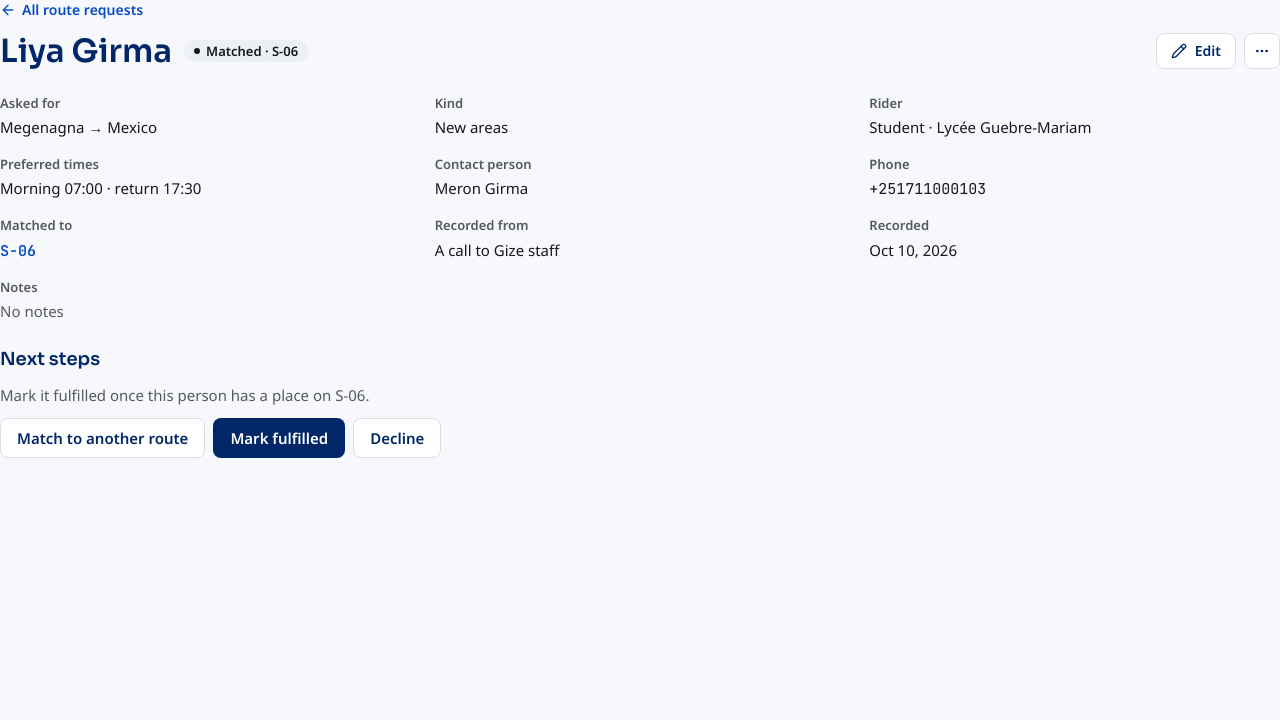
Test case: RouteRequestDetail › asks for a route, and explains a route that isn't for this rider
The width and height of the screenshot is (1280, 720).
Check: the heading "Liya Girma" is shown, box [0, 32, 172, 70]
Click the button "Match to another route".
click(103, 438)  # box [0, 418, 205, 458]
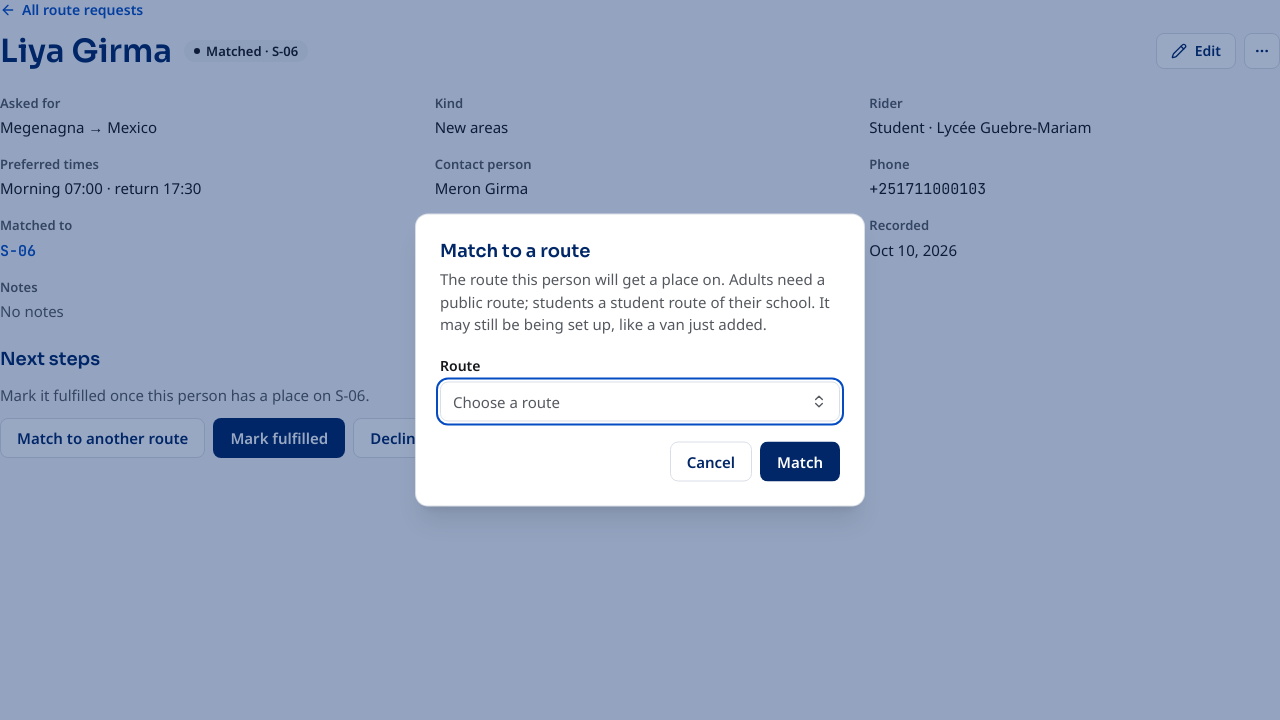
Click the button "Match".
click(800, 462)  # box [760, 442, 840, 482]
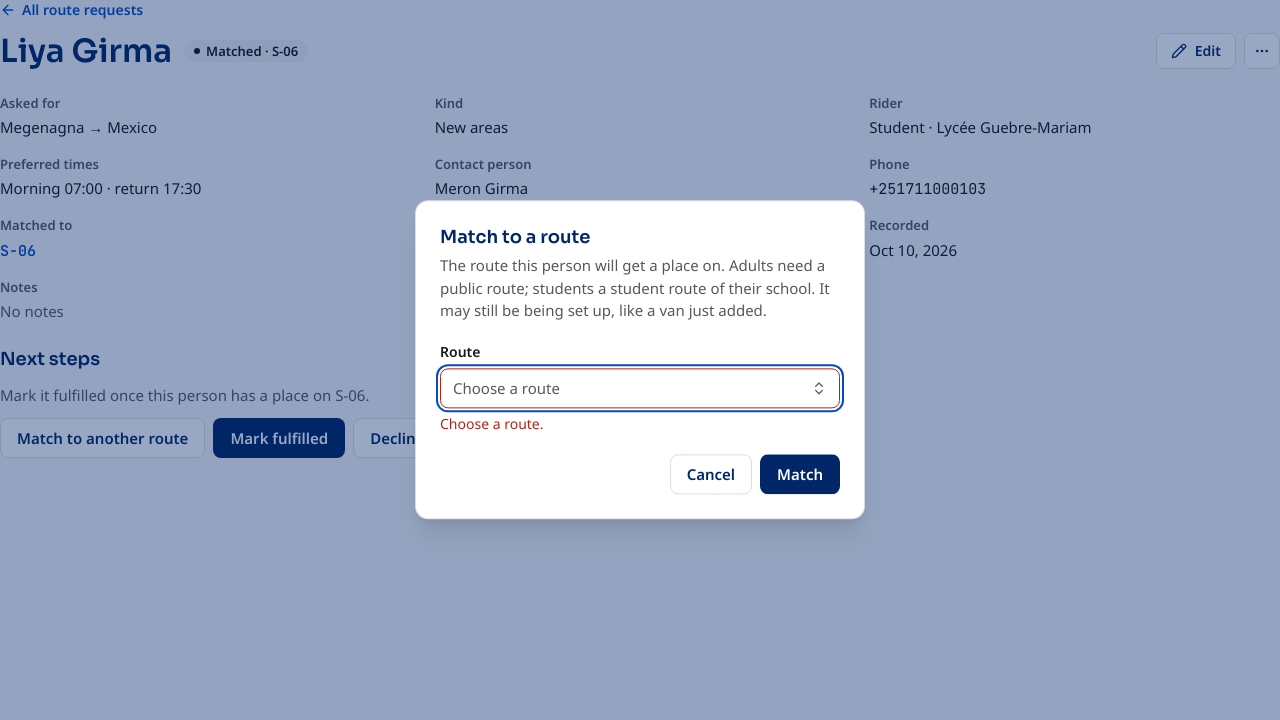
Check: the text "Choose a route." is shown, box [440, 414, 544, 433]
Click the dropdown labelled "route".
click(506, 388)  # box [440, 368, 840, 408]
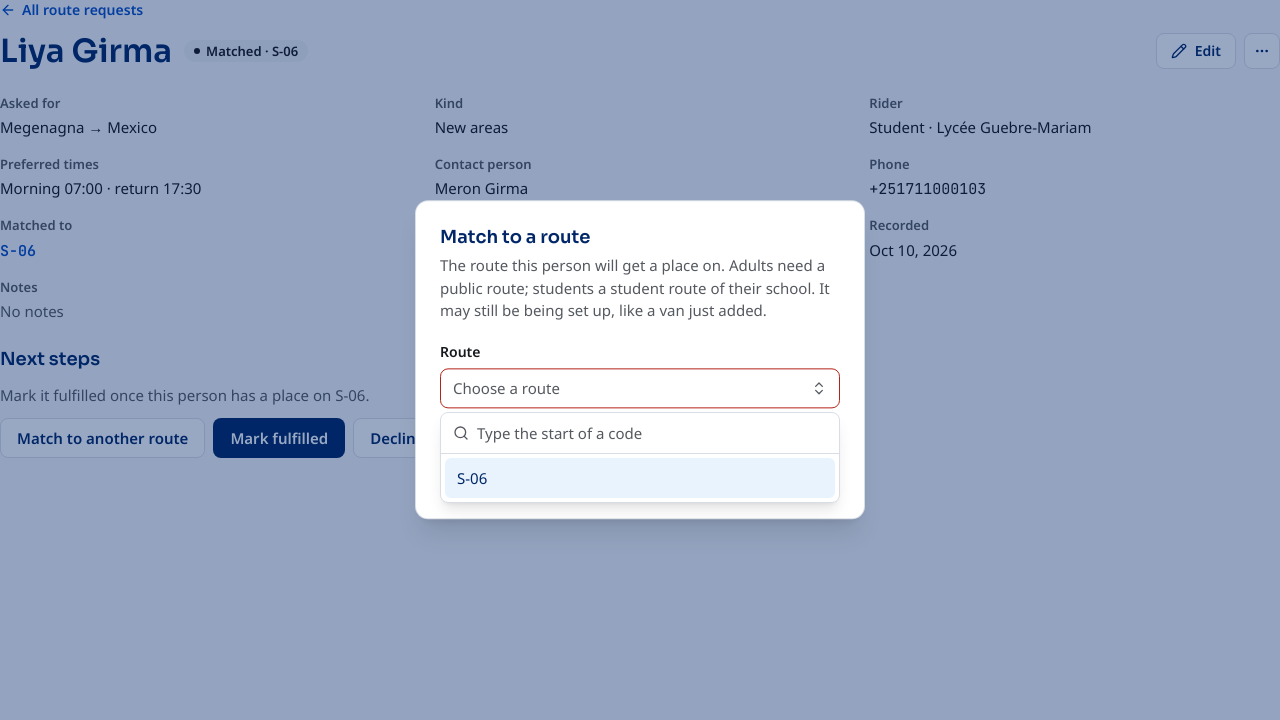
Type "S-" into the dropdown named "Search routes".
click(652, 433); type("S-")  # box [477, 413, 827, 453]
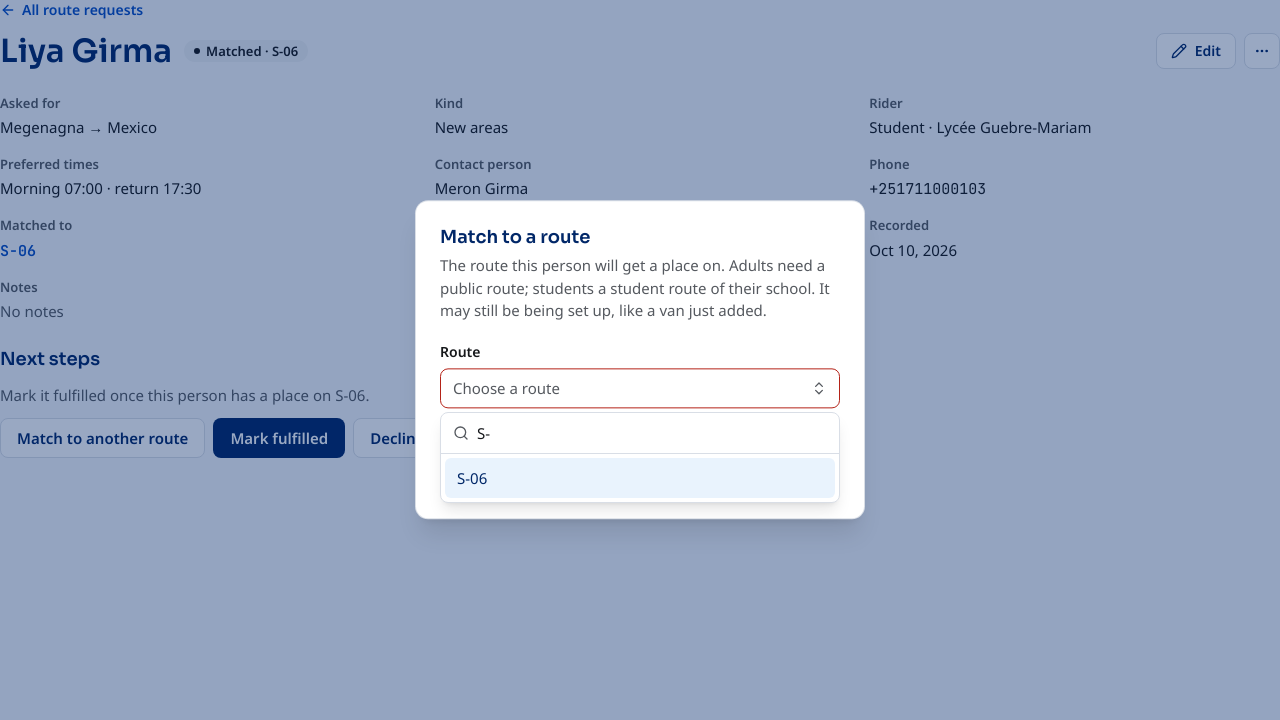
Click the option "S-06".
click(472, 478)  # box [445, 458, 835, 498]
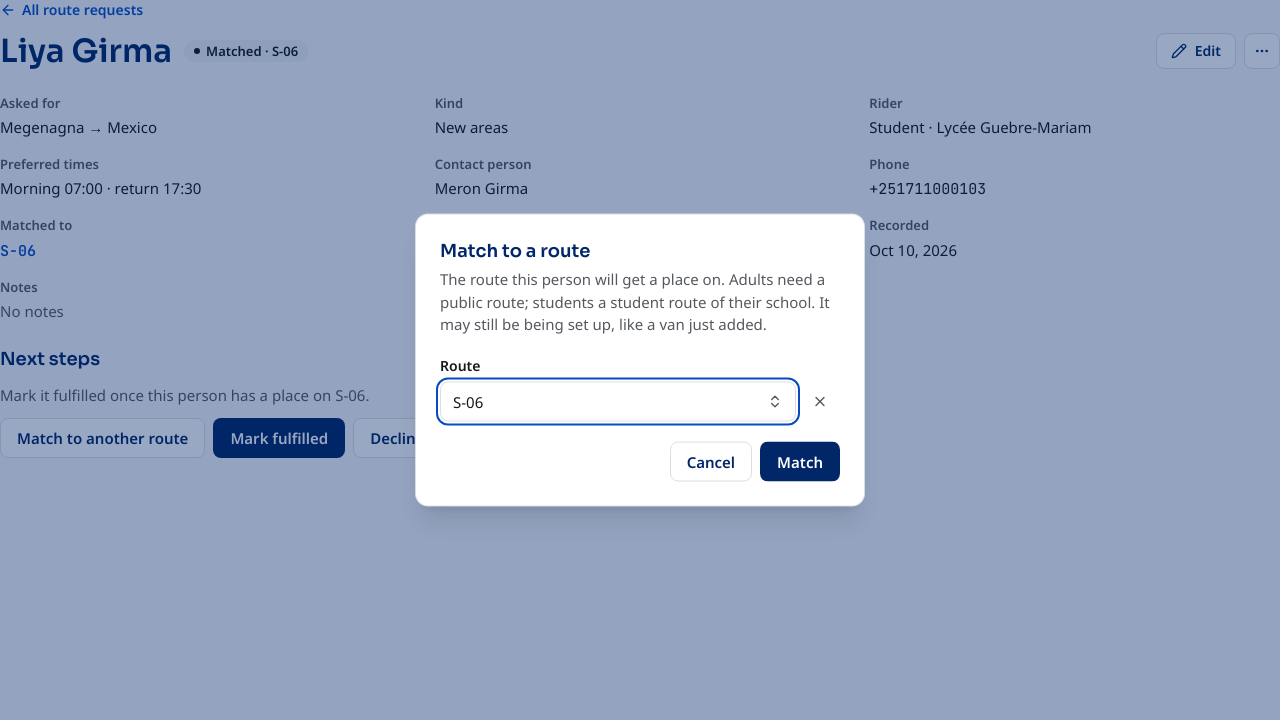
Click the button "Match".
click(800, 462)  # box [760, 442, 840, 482]
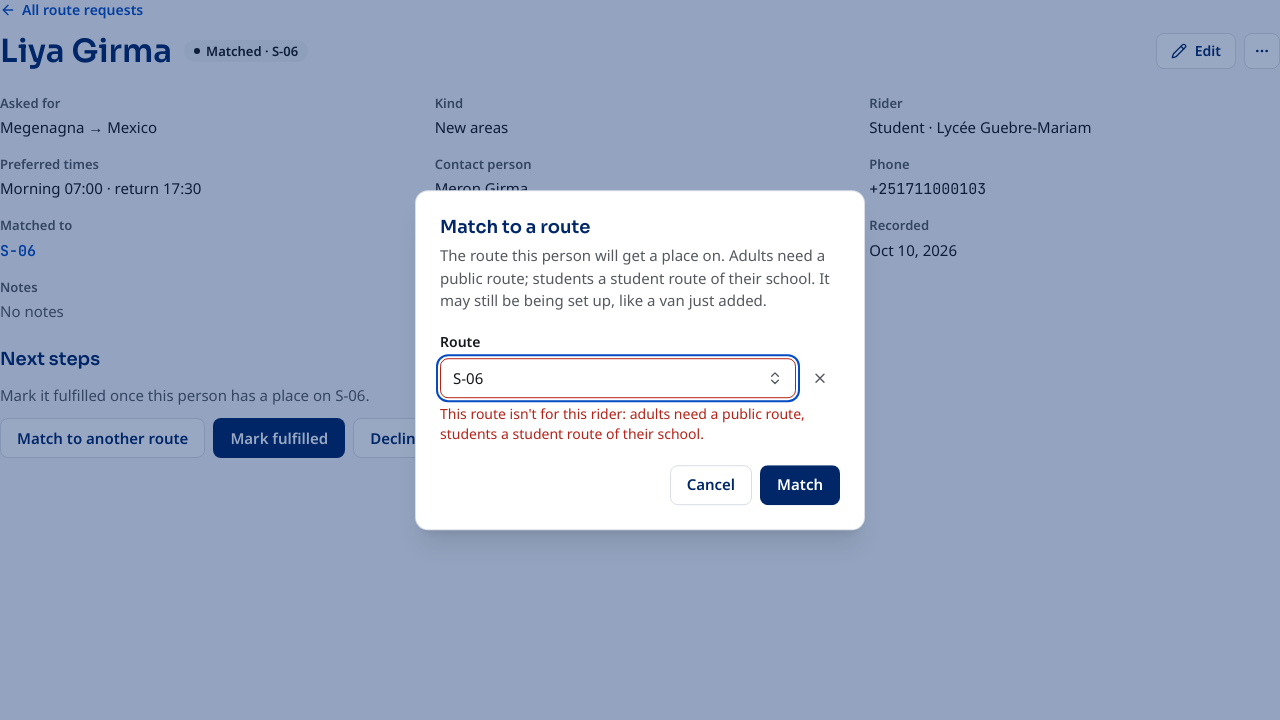
Check: the text "This route isn't for this rider: adults need a public route, students a student route of their school." is shown, box [440, 404, 805, 444]
